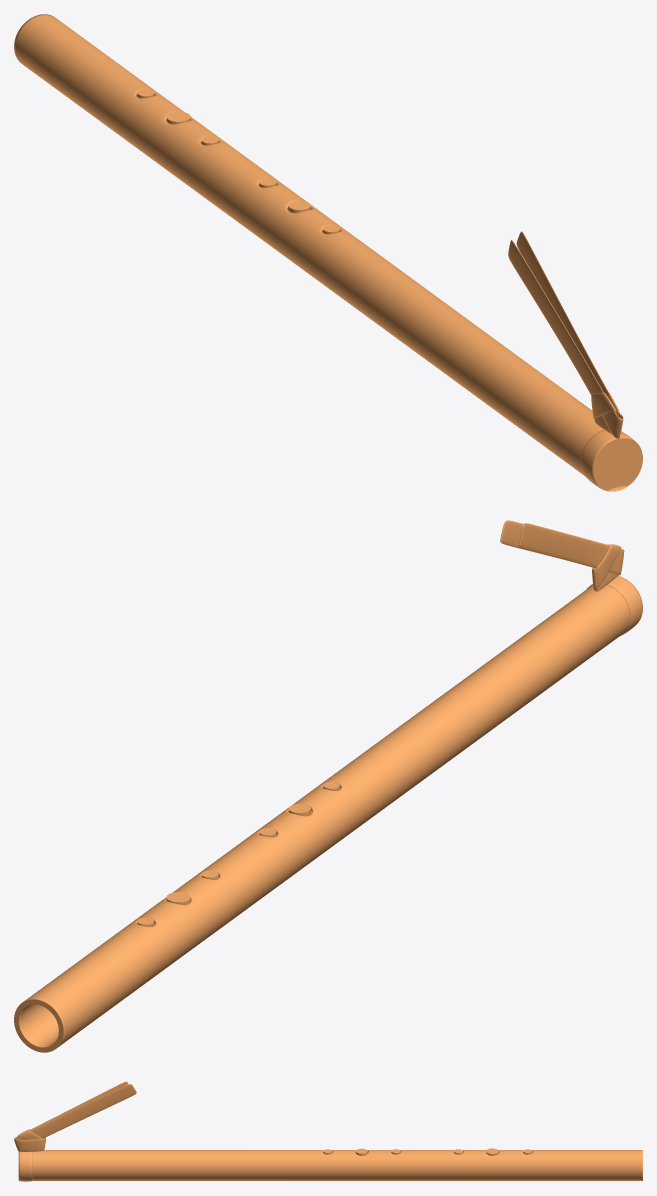
File: suling.fbx
3 views of the same model, one above another, from view 1: azimuth 30°, elevation 25°; view 2: azimuth 150°, elevation 25°; view 3: azimuth 270°, elevation 25° (orthographic). The views are drawn at different scales.
Visible parts, largest first — view 1: suling; view 2: suling; view 3: suling.
Boxes of the visible parts, x1,y1,x2,y2 form: suling: (14,14,642,491); suling: (14,520,642,1052); suling: (14,1081,642,1181).
Size of the model in its own units: 25.6 by 86.55 by 502.
